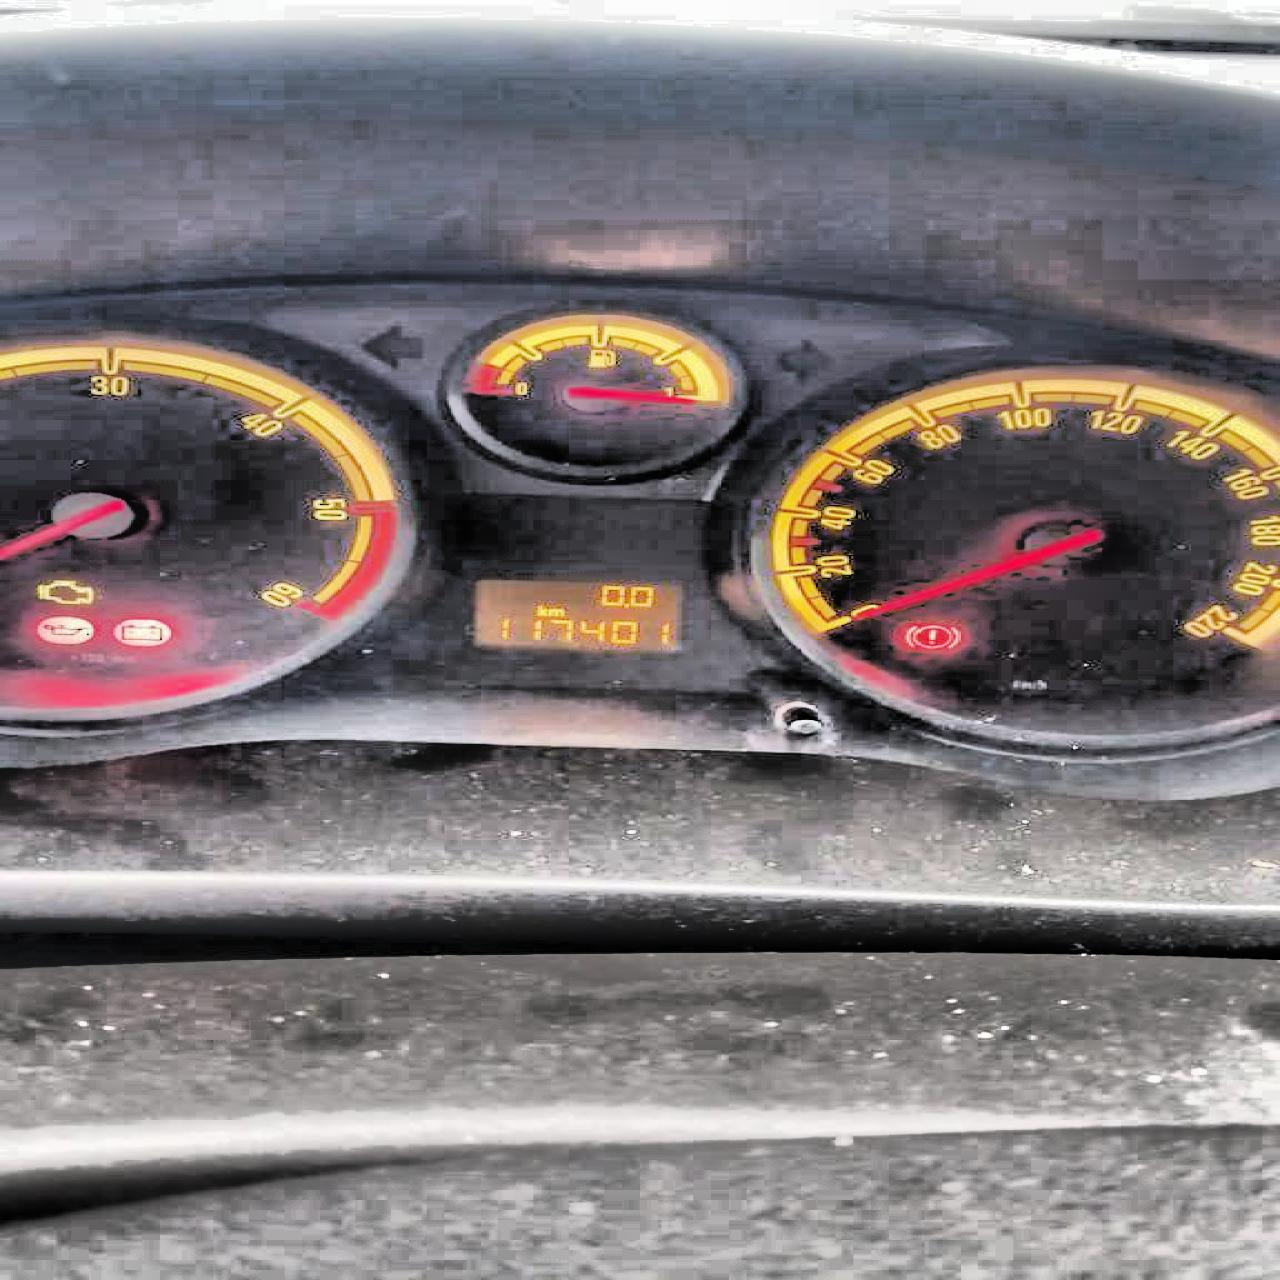-: (620, 601, 629, 607)
0: (606, 620, 638, 642), (598, 585, 625, 605), (627, 586, 652, 606)
1: (658, 621, 669, 644), (498, 618, 509, 640), (531, 619, 540, 640)
4: (578, 619, 605, 641)
7: (546, 618, 571, 640)
X: (533, 605, 545, 617), (545, 607, 563, 614)
odometer: (469, 578, 680, 653)
